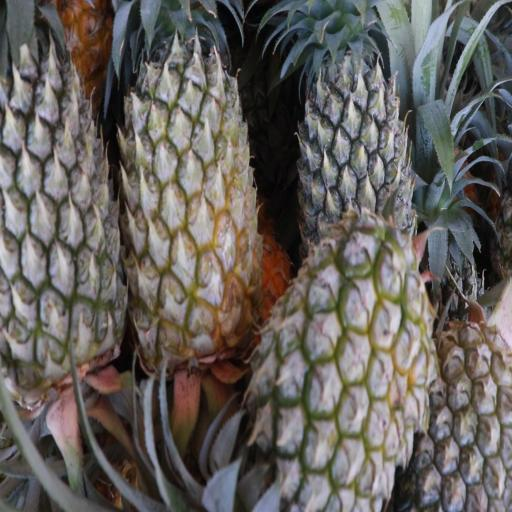------------------------------: (121, 0, 256, 367), (255, 232, 426, 505)
